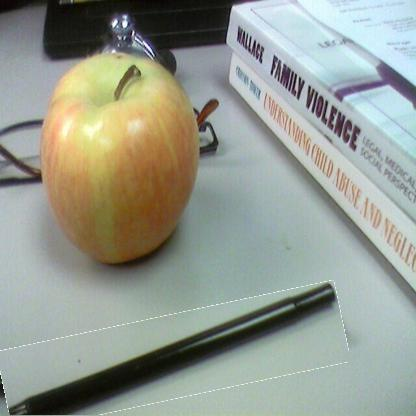Pen: (0, 297, 348, 415)
